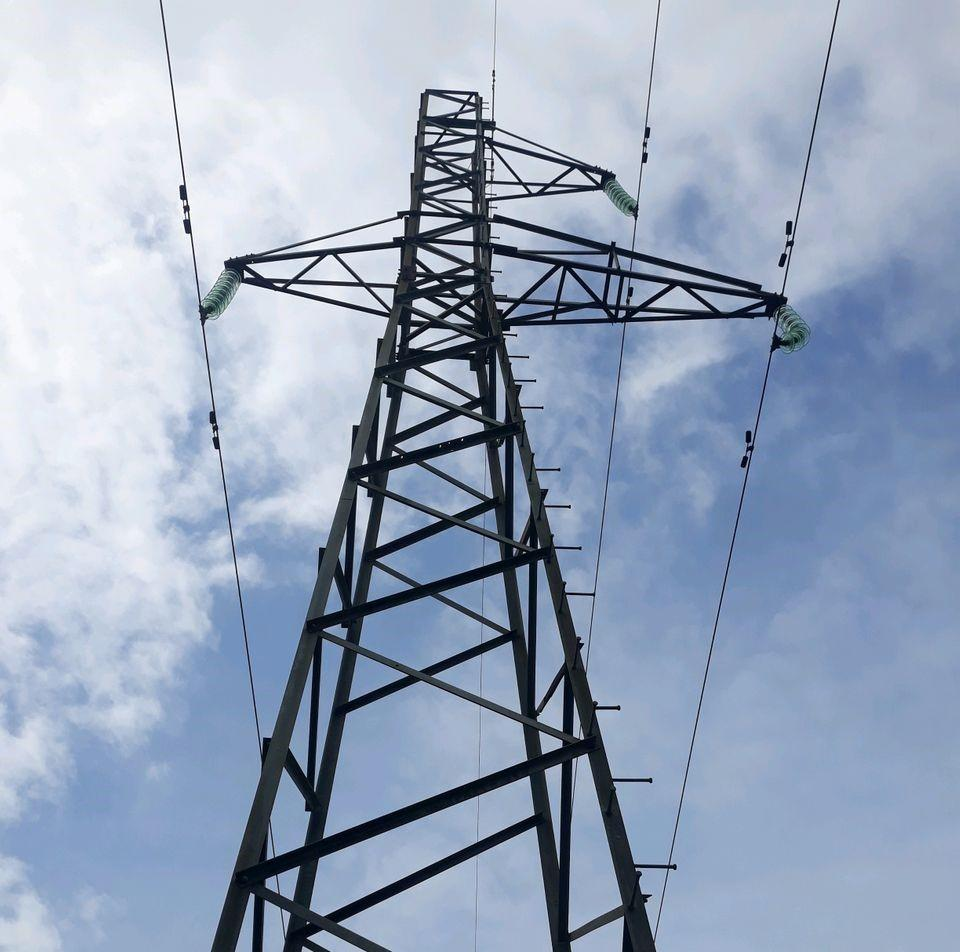power_tower: (276, 64, 631, 952)
